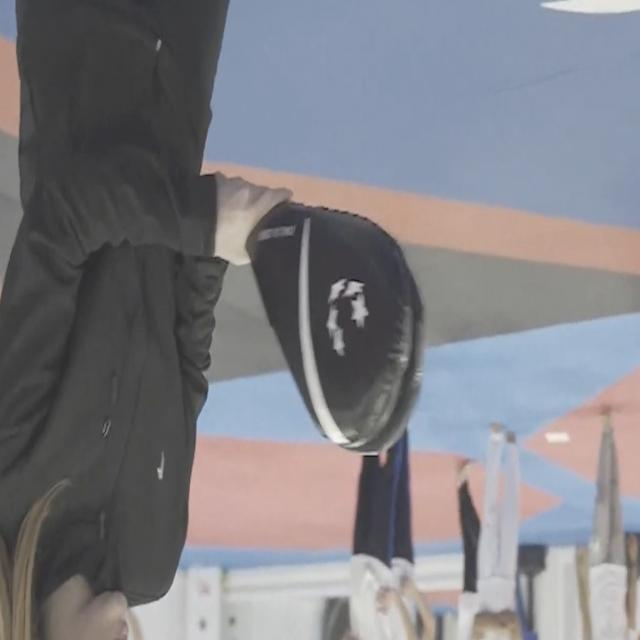paddle: (242, 197, 428, 457)
